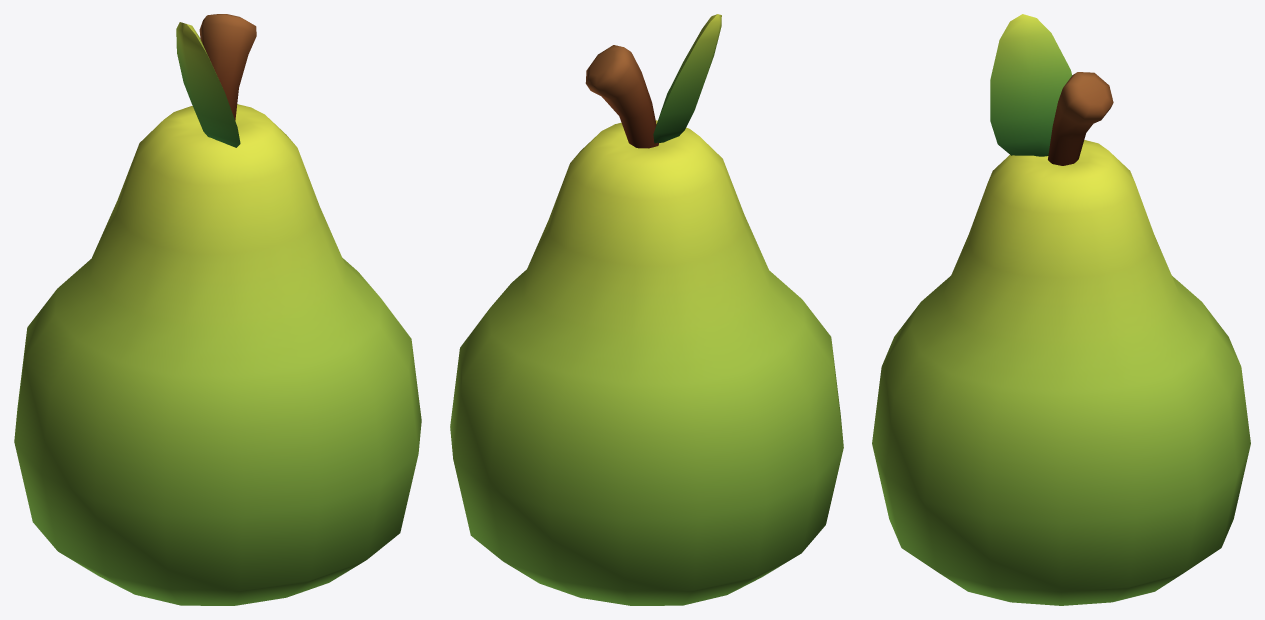
The model's file is Pear_01.glb.
3 views of the same model, side by side, from view 1: azimuth 30°, elevation 25°; view 2: azimuth 150°, elevation 25°; view 3: azimuth 270°, elevation 25° (orthographic). The views are drawn at different scales.
Parts seen in each view (by area): view 1: Pear_01; view 2: Pear_01; view 3: Pear_01.
Part boxes in pixels (bbox=[...]): Pear_01: bbox=[14, 14, 421, 605]; Pear_01: bbox=[450, 14, 843, 605]; Pear_01: bbox=[872, 14, 1250, 605].
Bounding box in the file's own units: 0.296 × 0.4468 × 0.296.
Materials: 1 (1 with a texture image).
